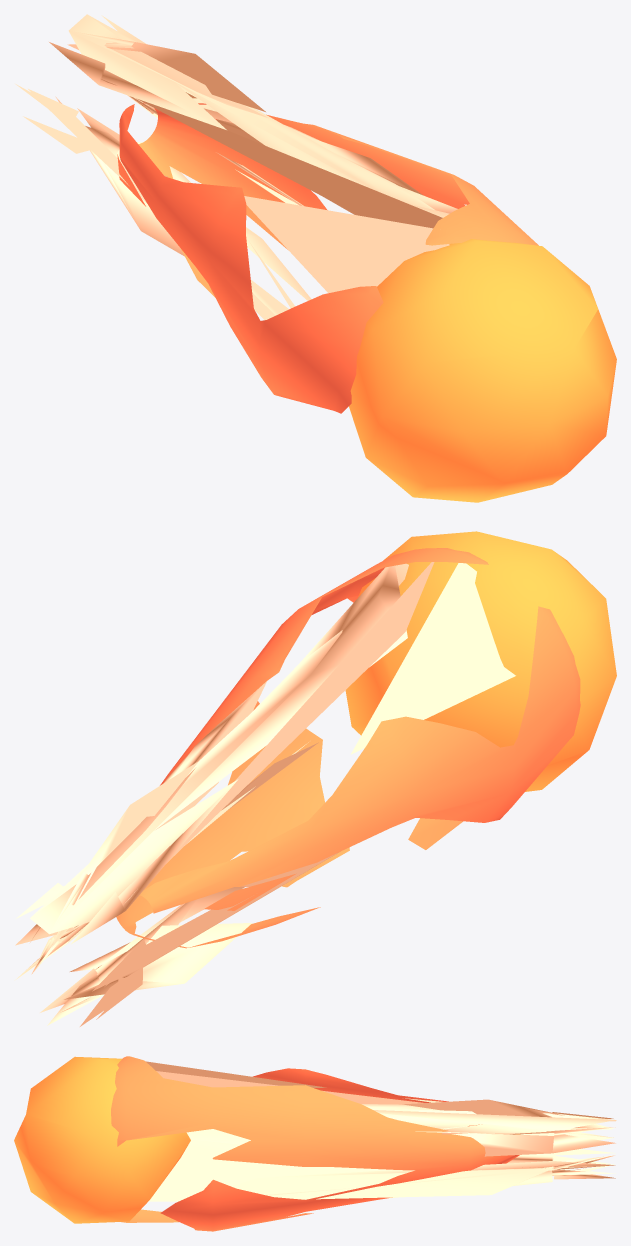
Rendered from Fireball2.glb.
The picture shows the model from 3 angles, top to bottom: view 1: azimuth 30°, elevation 25°; view 2: azimuth 150°, elevation 25°; view 3: azimuth 270°, elevation 25°; orthographic projection. The views are drawn at different scales.
Parts seen in each view (by area): view 1: InnerFire, OuterFlame, Cylinder; view 2: OuterFlame, Cylinder, InnerFire; view 3: Cylinder, OuterFlame, InnerFire.
Boxes of the visible parts, x1=… form: InnerFire: x1=349, y1=239, x2=616, y2=502; OuterFlame: x1=15, y1=14, x2=457, y2=319; Cylinder: x1=117, y1=103, x2=538, y2=413; OuterFlame: x1=14, y1=562, x2=515, y2=1026; Cylinder: x1=116, y1=548, x2=580, y2=948; InnerFire: x1=345, y1=531, x2=616, y2=791; Cylinder: x1=111, y1=1056, x2=520, y2=1231; OuterFlame: x1=145, y1=1061, x2=616, y2=1201; InnerFire: x1=14, y1=1056, x2=190, y2=1223.
Bounding box in the file's own units: 3.35 × 3.28 × 11.1.
